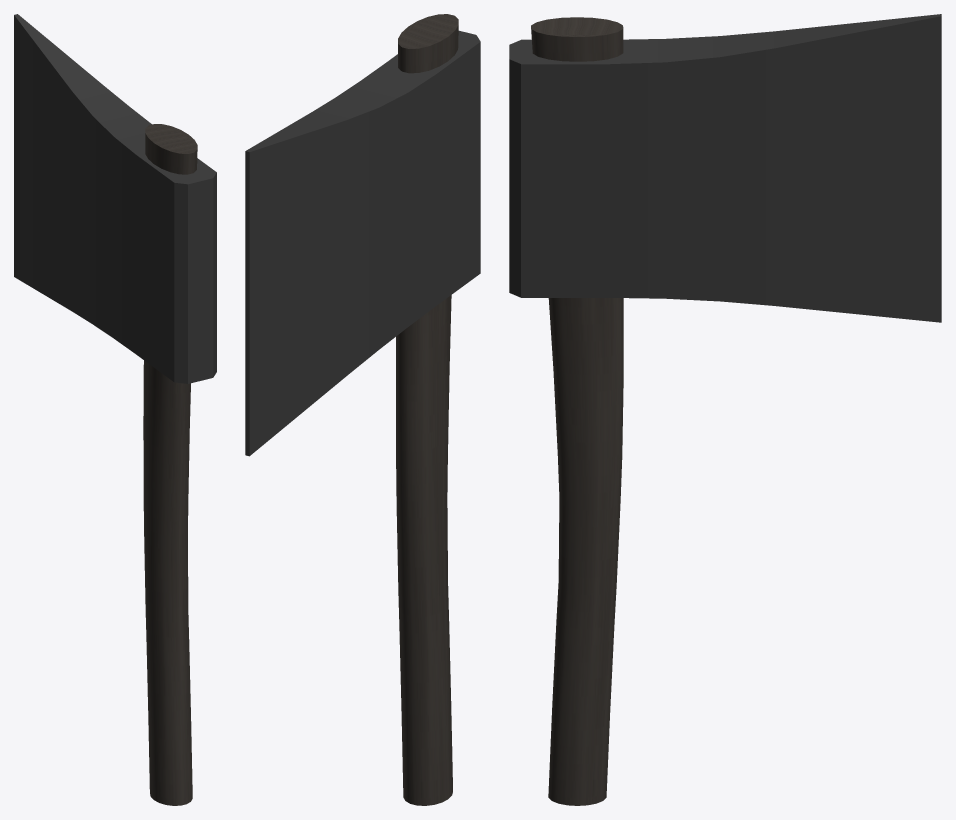
The model's file is axe.FBX.
3 views of the same model, side by side, from view 1: azimuth 30°, elevation 25°; view 2: azimuth 150°, elevation 25°; view 3: azimuth 270°, elevation 25° (orthographic). The views are drawn at different scales.
Parts seen in each view (by area): view 1: axe, handle; view 2: axe, handle; view 3: axe, handle.
Boxes of the visible parts, left/top/right/bottom form: axe: left=14, top=14, right=216, bottom=383; handle: left=143, top=124, right=197, bottom=805; axe: left=245, top=30, right=480, bottom=456; handle: left=396, top=14, right=458, bottom=805; axe: left=509, top=14, right=941, bottom=322; handle: left=531, top=17, right=623, bottom=805.
Bounding box in the file's own units: 0.1945 × 2.91 × 1.46.
Materials: 2 (1 with a texture image).
